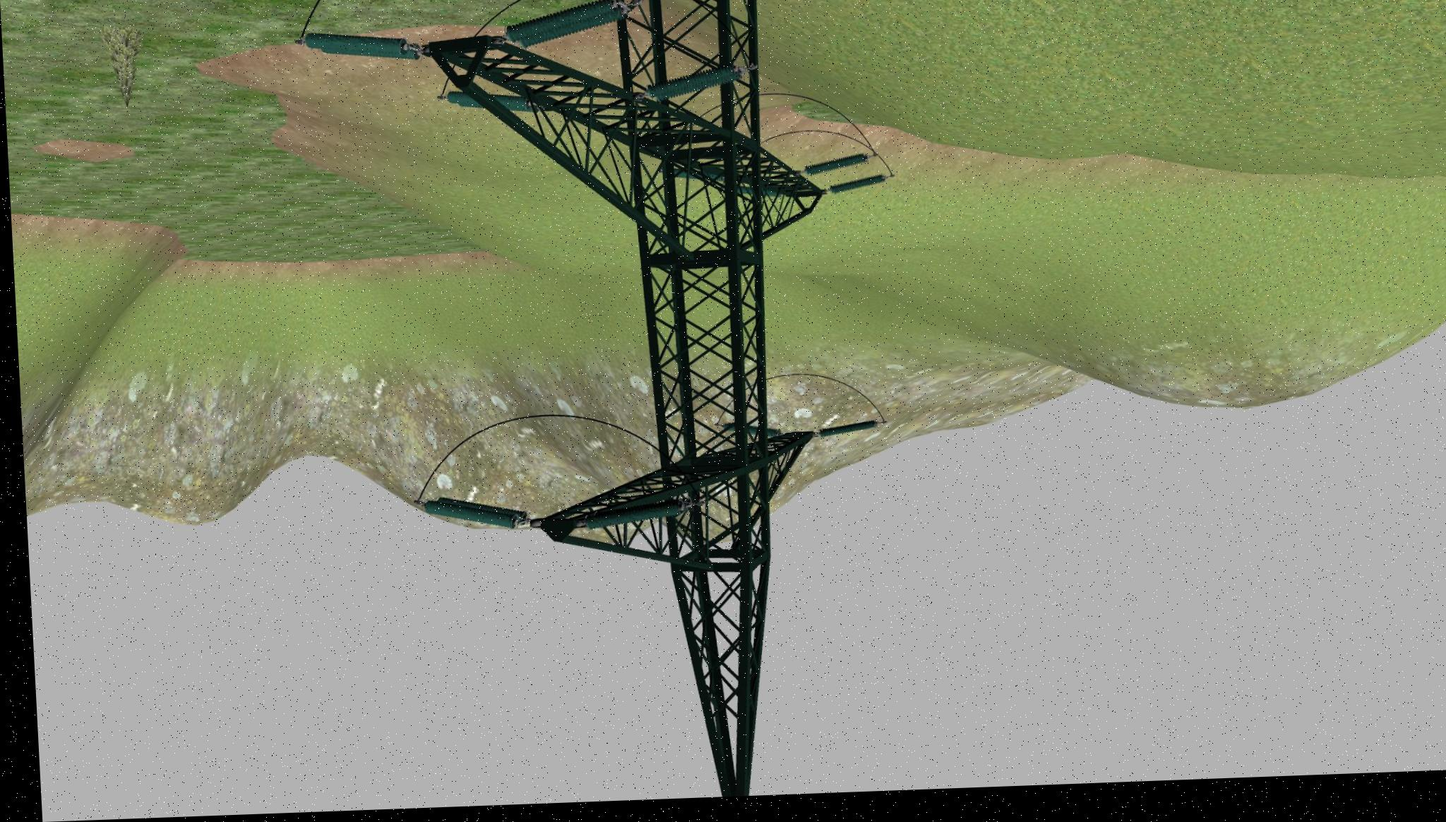tower: (472, 0, 841, 800)
